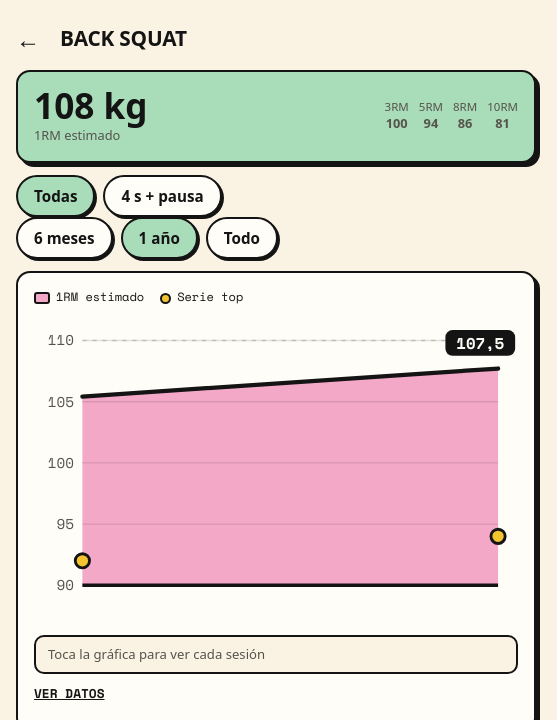
la ficha de un ejercicio muestra la gráfica y la tabla de datos
expect the picture named "Back Squat" is shown: met, box [34,312,518,625]
Click the button "Ver datos": (69, 694) [34,674,104,714]
(page scrolled)
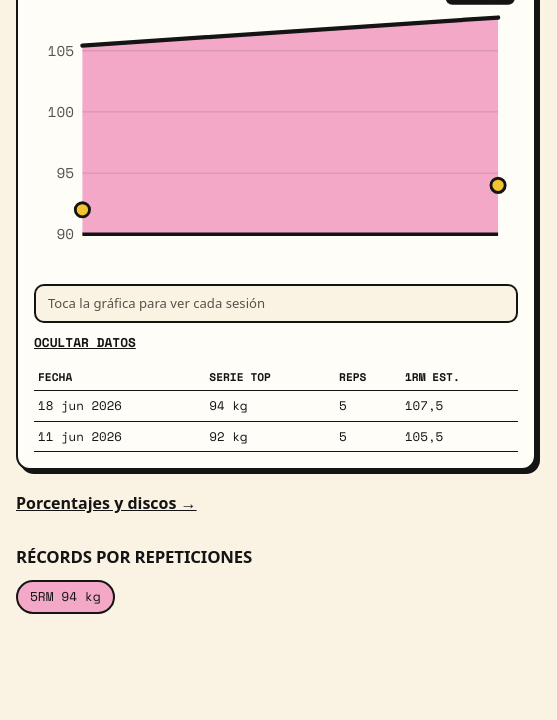
expect the number of rows is 3: met, box [34,362,518,391]; [34,391,518,421]; [34,421,518,452]
expect the row "18 jun 2026 94 kg 5 107,5" is shown: met, box [34,391,518,421]
